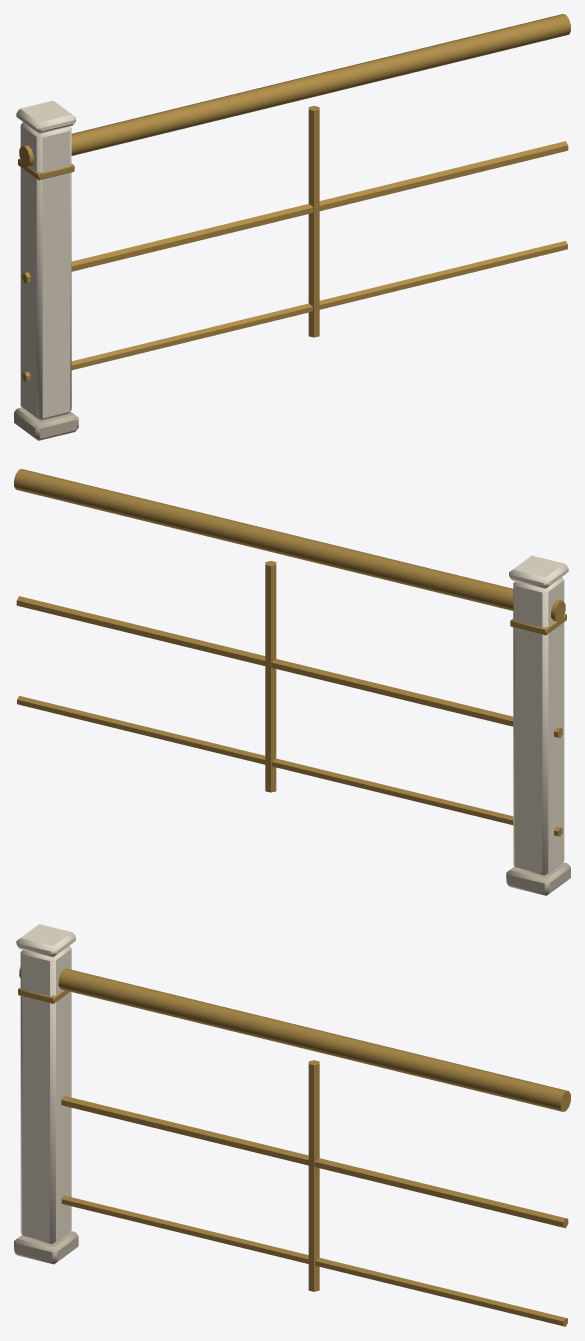
The model's file is railing.glb.
3 renders of one model, top to bottom at view 1: azimuth 30°, elevation 25°; view 2: azimuth 150°, elevation 25°; view 3: azimuth 330°, elevation 25°, orthographic.
Visible parts, largest first — view 1: body; view 2: body; view 3: body.
Boxes of the visible parts, x1,y1,x2,y2 form: body: [14, 14, 570, 440]; body: [14, 469, 570, 895]; body: [14, 924, 570, 1326].
Size of the model in its own units: 2 by 1.12 by 0.16.
